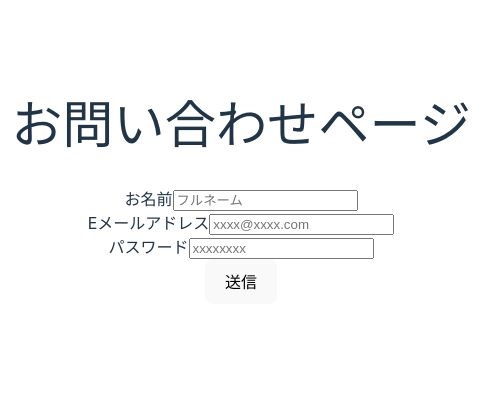
Test case: Contact Page › shows validation errors on empty submit
Click the button "送信" at (241, 282), box x1=205 y1=259 x2=277 y2=304
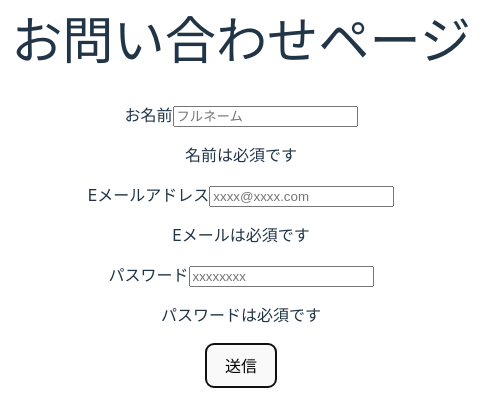
Now the text "名前は必須です" is shown, box x1=185 y1=145 x2=297 y2=165
Now the text "Eメールは必須です" is shown, box x1=172 y1=225 x2=310 y2=245
Now the text "パスワードは必須です" is shown, box x1=161 y1=305 x2=321 y2=325
